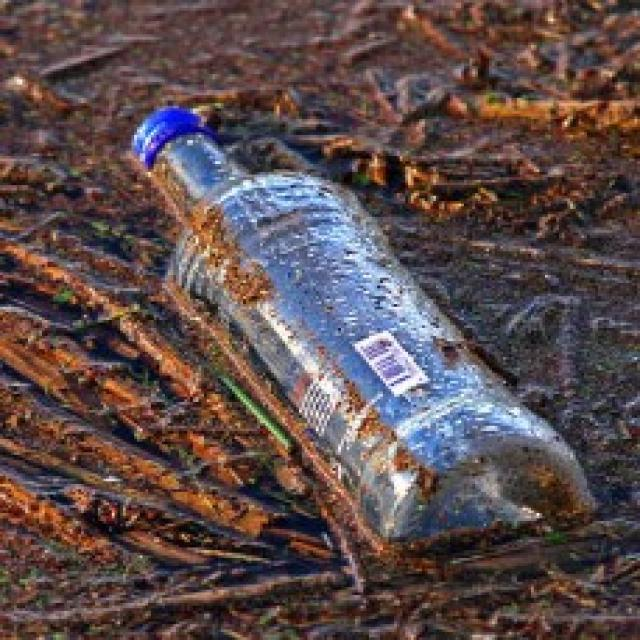electronic: (127, 102, 603, 566)
